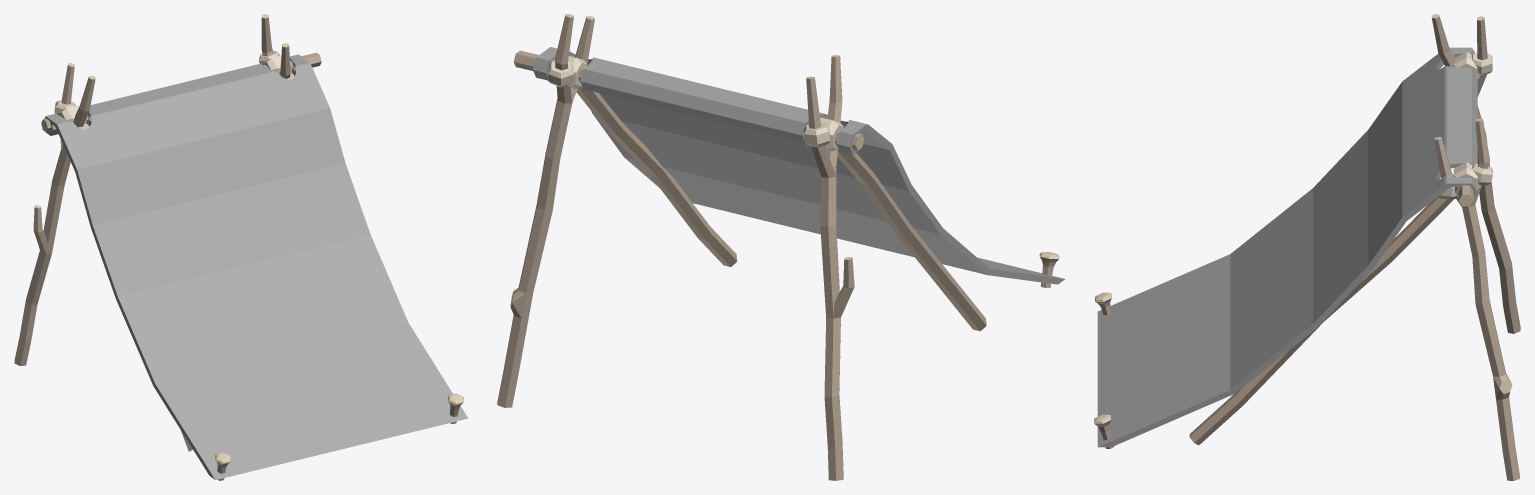
Rendered from Hilly_Prop_Camp_Lean_To.glb.
The picture shows the model from 3 angles, left to right: view 1: azimuth 30°, elevation 25°; view 2: azimuth 150°, elevation 25°; view 3: azimuth 270°, elevation 25°; orthographic projection. The views are drawn at different scales.
Parts seen in each view (by area): view 1: Hilly_Prop_Camp_Lean_To; view 2: Hilly_Prop_Camp_Lean_To; view 3: Hilly_Prop_Camp_Lean_To.
Boxes of the visible parts, bbox=[...] form: Hilly_Prop_Camp_Lean_To: bbox=[14, 14, 468, 480]; Hilly_Prop_Camp_Lean_To: bbox=[497, 14, 1064, 480]; Hilly_Prop_Camp_Lean_To: bbox=[1094, 14, 1520, 480].
Size of the model in its own units: 1.37 by 1.44 by 1.64.
